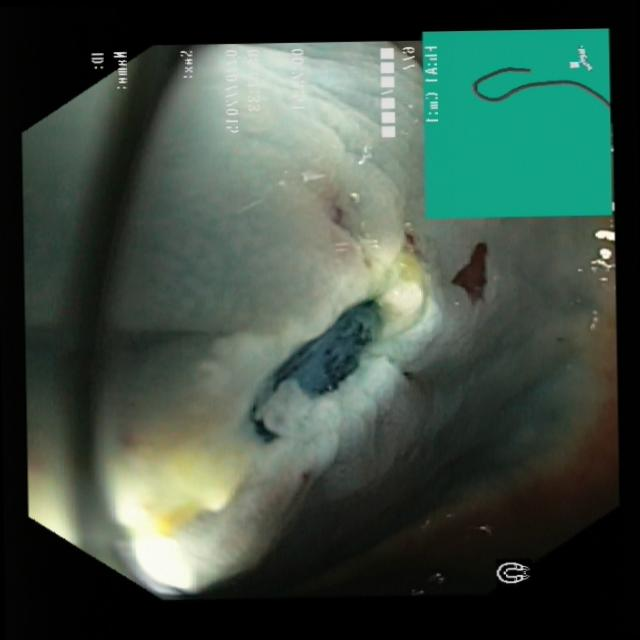dyed-resection-margins: (175, 232, 509, 490)
